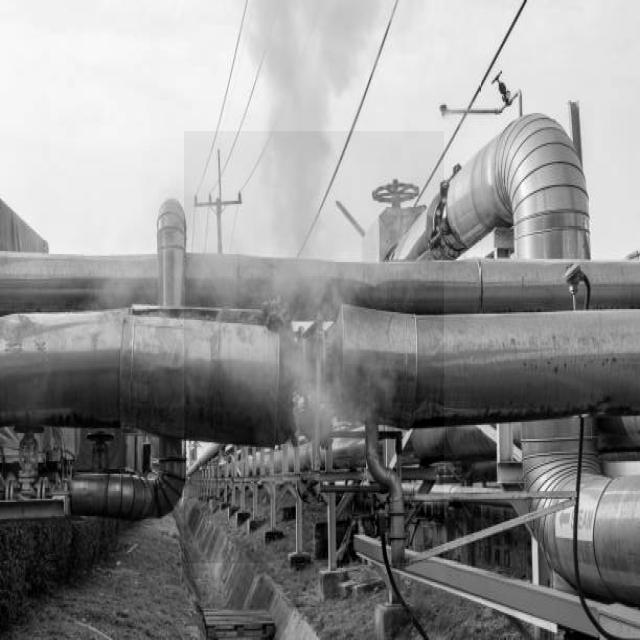corrosion: (215, 200, 348, 402)
